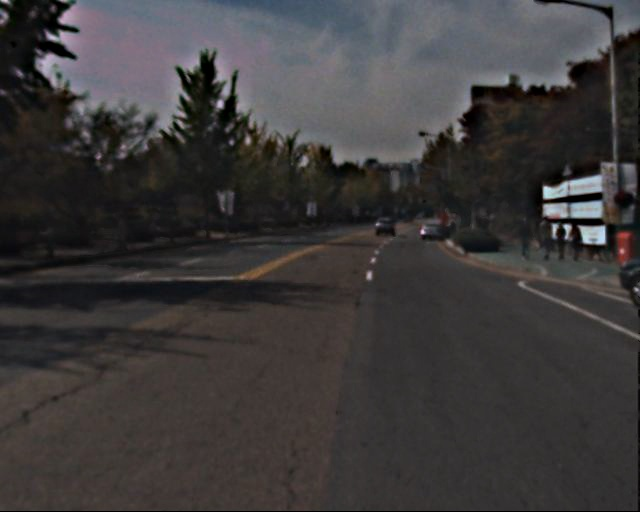person: (536, 213, 557, 264), (516, 215, 537, 265), (566, 220, 584, 265), (553, 221, 571, 265)
